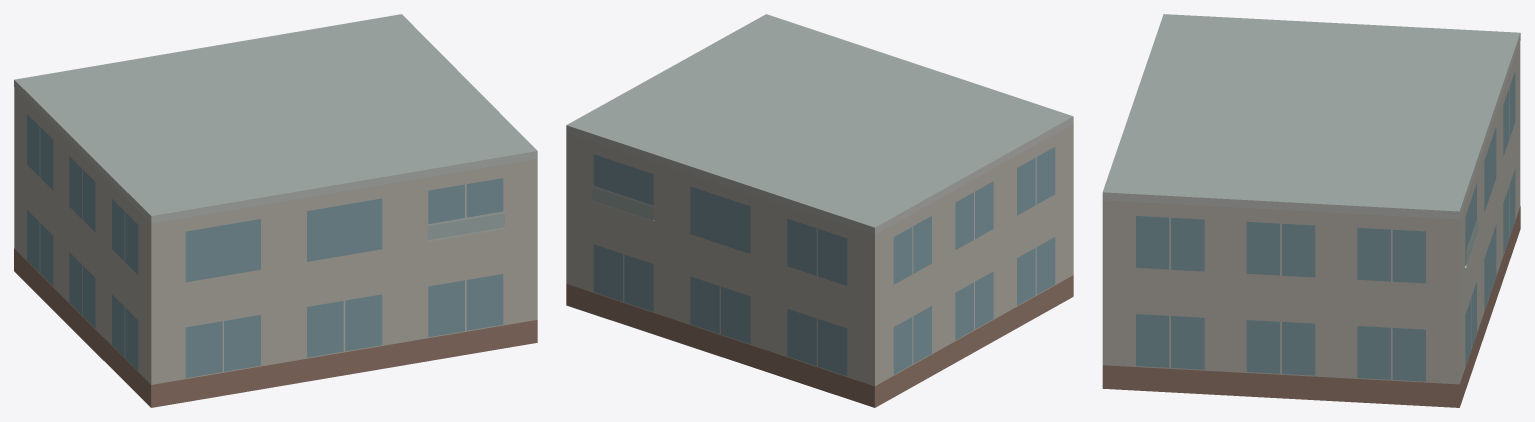
Rendered from survey-upis-32983064.glb.
3 renders of one model, left to right at view 1: azimuth 30°, elevation 25°; view 2: azimuth 150°, elevation 25°; view 3: azimuth 270°, elevation 25°, orthographic. The views are drawn at different scales.
Visible parts, largest first — view 1: survey-upis-32983064.tmp; view 2: survey-upis-32983064.tmp; view 3: survey-upis-32983064.tmp.
Boxes of the visible parts, <box> form: survey-upis-32983064.tmp: <box>14,14,537,407</box>; survey-upis-32983064.tmp: <box>566,14,1073,407</box>; survey-upis-32983064.tmp: <box>1102,14,1520,407</box>.
Size of the model in its own units: 13.17 by 6.1 by 11.78.
